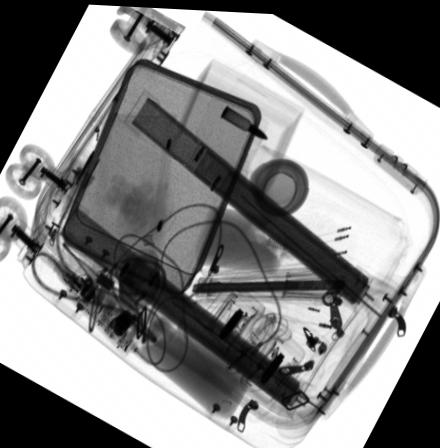Bullet: (218, 101, 268, 136)
